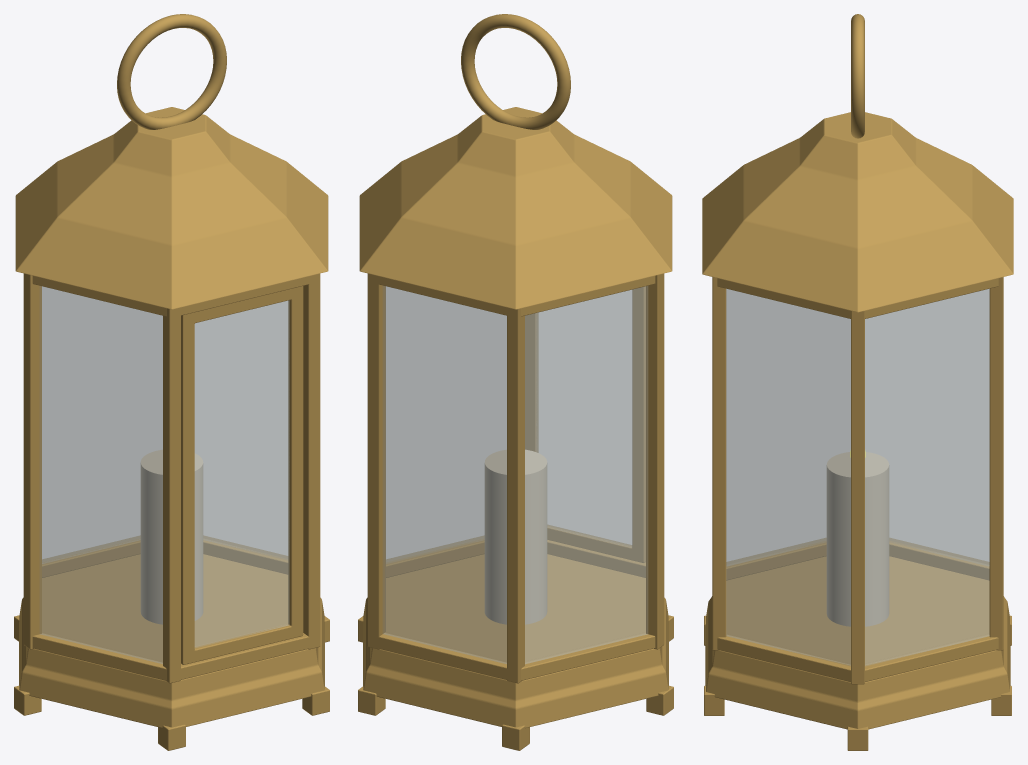
File: lantern.glb
3 renders of one model, left to right at view 1: azimuth 30°, elevation 25°; view 2: azimuth 150°, elevation 25°; view 3: azimuth 270°, elevation 25°, orthographic.
Parts seen in each view (by area): view 1: Glass, Roof, Base, Door_Glass, Frame, Door, Candle, Handle; view 2: Glass, Roof, Base, Frame, Door_Glass, Candle, Door, Handle; view 3: Glass, Roof, Base, Frame, Candle, Handle.
Boxes of the visible parts, left/top/right/bottom form: Glass: left=40, top=286, right=287, bottom=663; Roof: left=15, top=107, right=328, bottom=309; Base: left=14, top=554, right=329, bottom=750; Door_Glass: left=194, top=300, right=289, bottom=647; Frame: left=23, top=273, right=320, bottom=683; Door: left=181, top=286, right=303, bottom=664; Candle: left=140, top=449, right=203, bottom=624; Handle: left=117, top=14, right=226, bottom=129; Glass: left=383, top=286, right=647, bottom=663; Roof: left=359, top=107, right=672, bottom=309; Base: left=358, top=554, right=673, bottom=750; Frame: left=367, top=273, right=664, bottom=683; Door_Glass: left=536, top=290, right=631, bottom=547; Candle: left=484, top=449, right=547, bottom=624; Door: left=525, top=286, right=645, bottom=562; Handle: left=461, top=14, right=570, bottom=129; Glass: left=726, top=288, right=989, bottom=665; Roof: left=702, top=112, right=1013, bottom=312; Base: left=704, top=556, right=1011, bottom=750; Frame: left=712, top=277, right=1003, bottom=684; Candle: left=826, top=452, right=889, bottom=626; Handle: left=851, top=14, right=864, bottom=138.
Bounding box in the file's own units: 0.207 × 0.418 × 0.1795.
